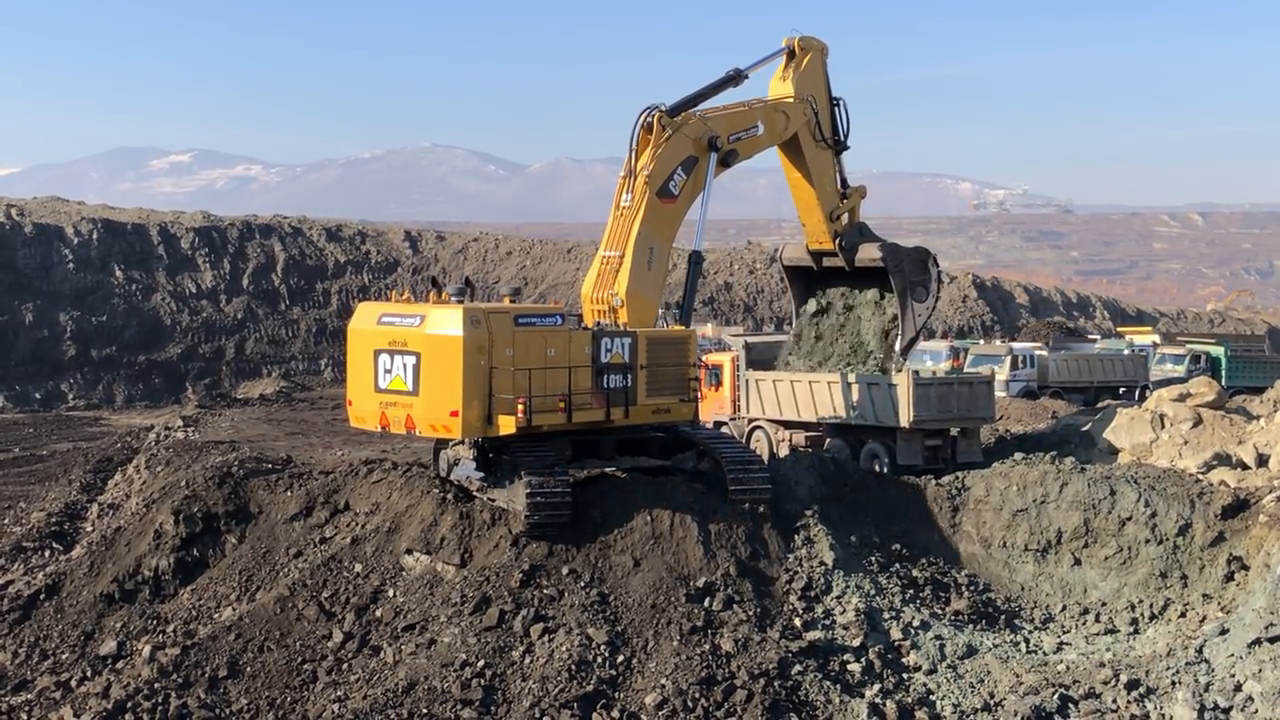full: (770, 230, 940, 373)
